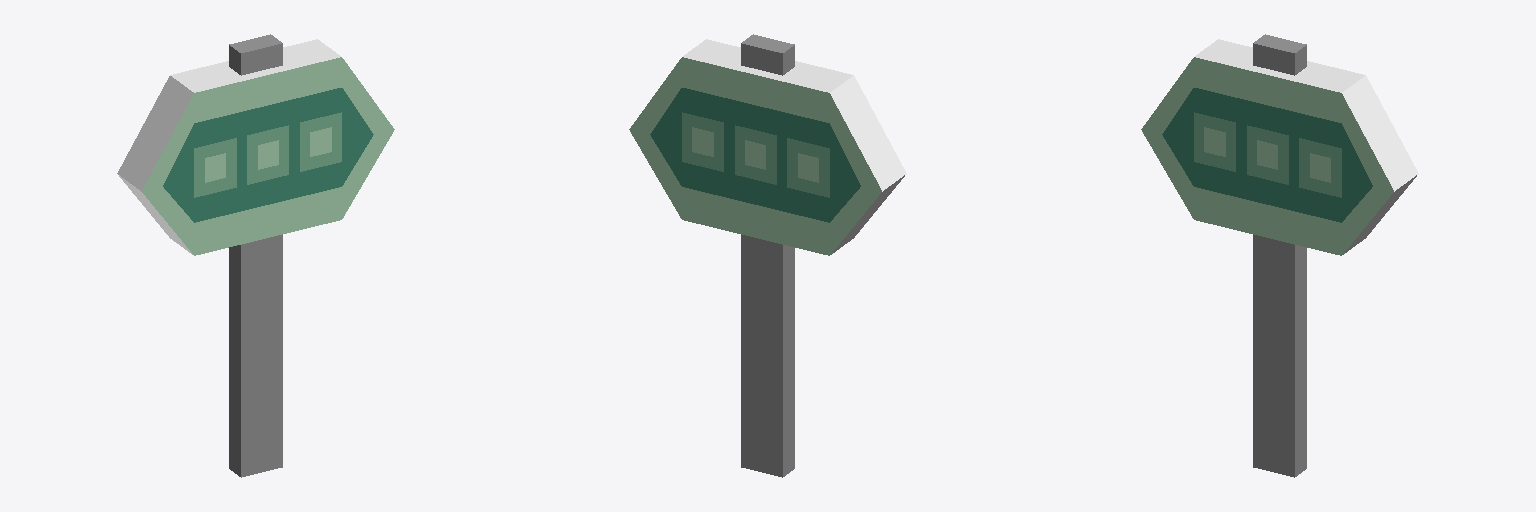
3 renders of one model, left to right at view 1: azimuth 30°, elevation 25°; view 2: azimuth 150°, elevation 25°; view 3: azimuth 330°, elevation 25°, orthographic.
Parts seen in each view (by area): view 1: polygon1.001; view 2: polygon1.001; view 3: polygon1.001.
Part boxes in pixels (x1,y1,x2,y2): polygon1.001: (117,34,394,477); polygon1.001: (629,34,906,477); polygon1.001: (1141,34,1418,477).
Size of the model in its own units: 0.75 by 1.2 by 0.125.
2 materials, 1 textured.